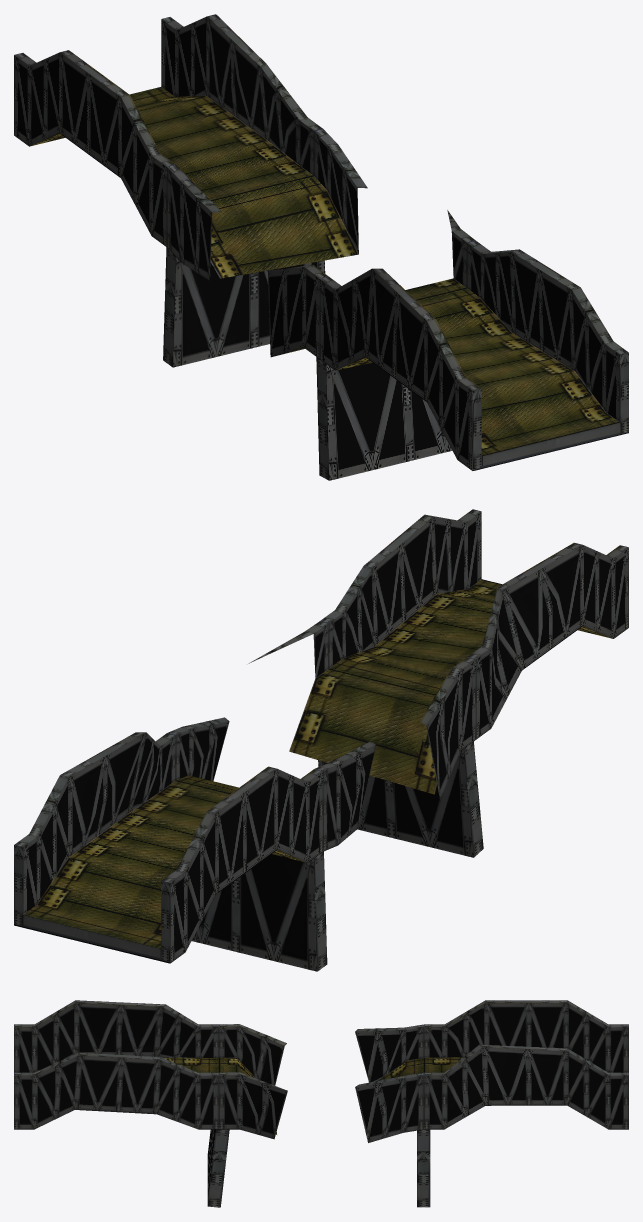
The model's file is bridgewreck.gltf.
3 renders of one model, top to bottom at view 1: azimuth 30°, elevation 25°; view 2: azimuth 150°, elevation 25°; view 3: azimuth 270°, elevation 25°, orthographic. The views are drawn at different scales.
Visible parts, largest first — view 1: bridgewreck_atomic0; view 2: bridgewreck_atomic0; view 3: bridgewreck_atomic0.
Part boxes in pixels (x1,y1,x2,y2): bridgewreck_atomic0: (14,14,628,480); bridgewreck_atomic0: (14,509,628,971); bridgewreck_atomic0: (14,1000,628,1207).
Bounding box in the file's own units: 38.69 × 46.68 × 166.
1 material, 1 textured.
